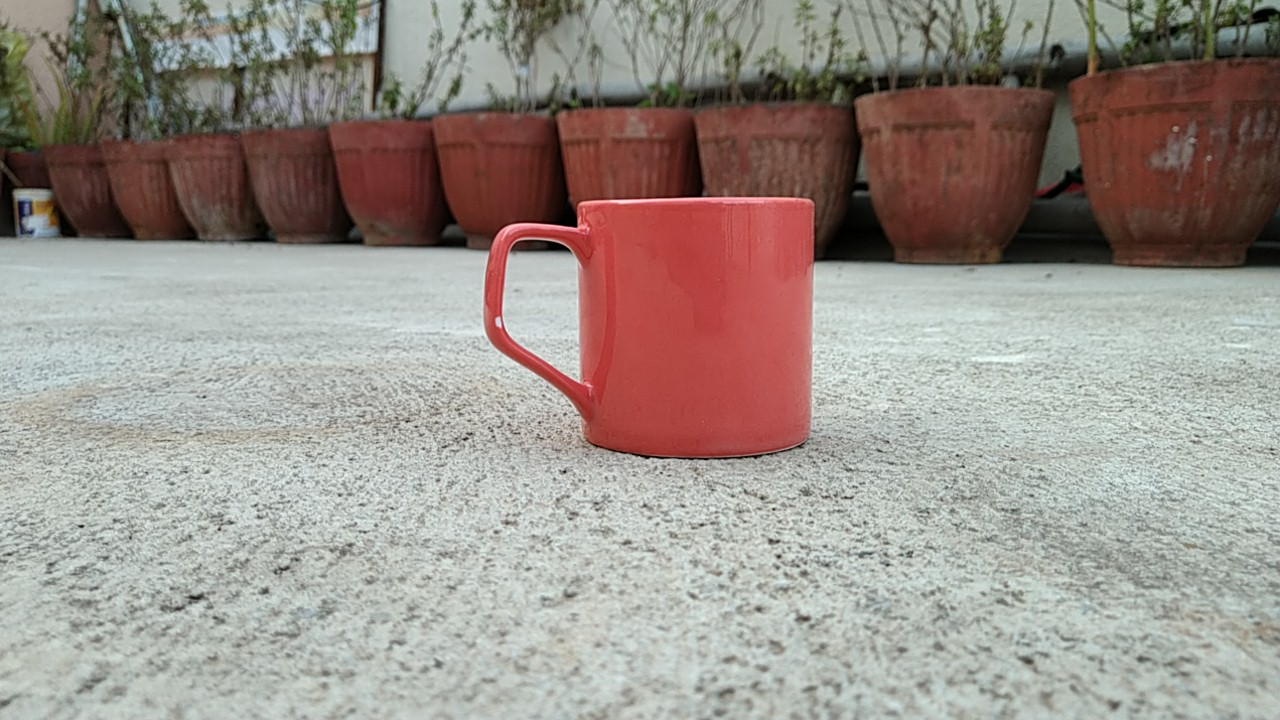cup: (471, 191, 830, 472)
